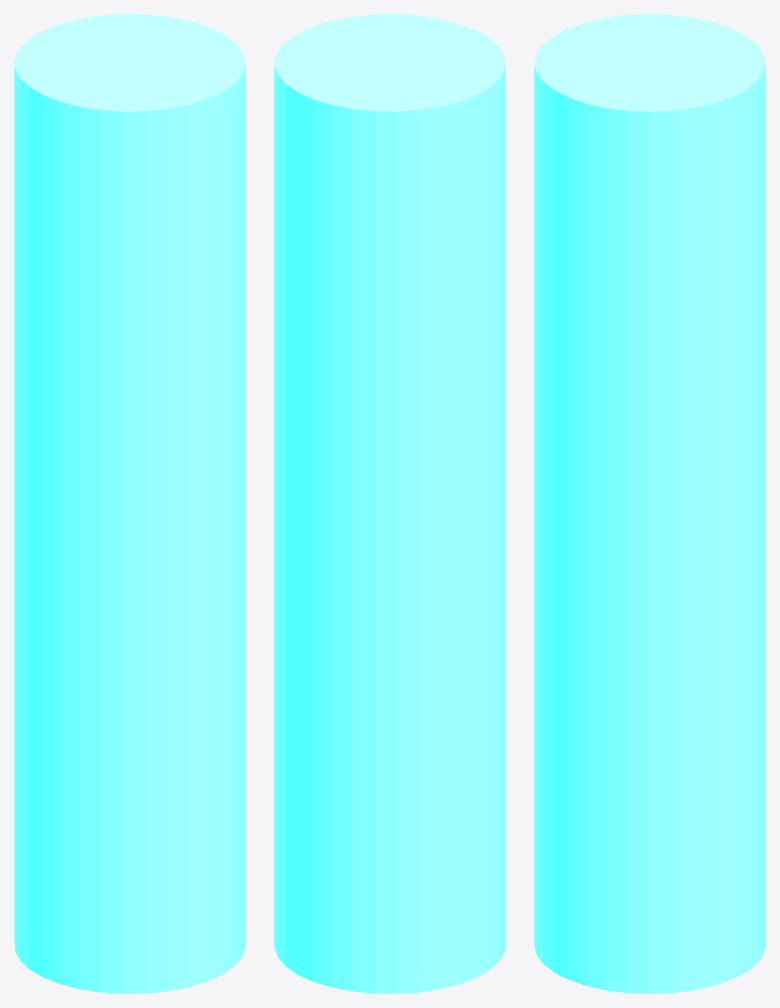
File: beacon light.fbx
3 renders of one model, left to right at view 1: azimuth 30°, elevation 25°; view 2: azimuth 150°, elevation 25°; view 3: azimuth 270°, elevation 25°, orthographic.
Parts seen in each view (by area): view 1: beacon; view 2: beacon; view 3: beacon.
Part boxes in pixels (x1,y1,x2,y2): beacon: (14, 14, 245, 993); beacon: (274, 14, 505, 993); beacon: (534, 14, 765, 993).
Bounding box in the file's own units: 285 × 1197 × 285.
